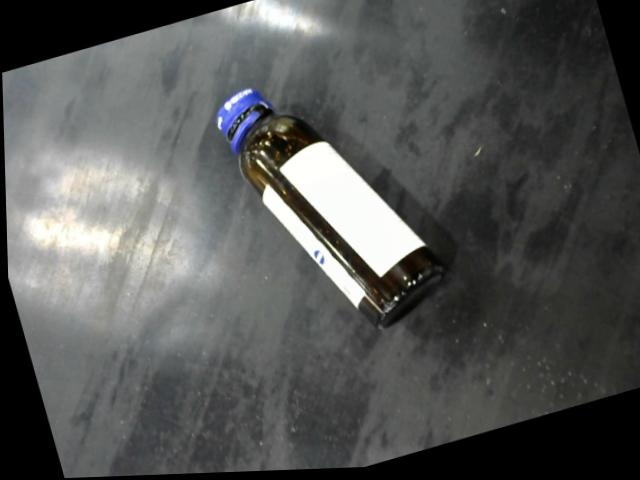glass: (207, 49, 456, 365)
